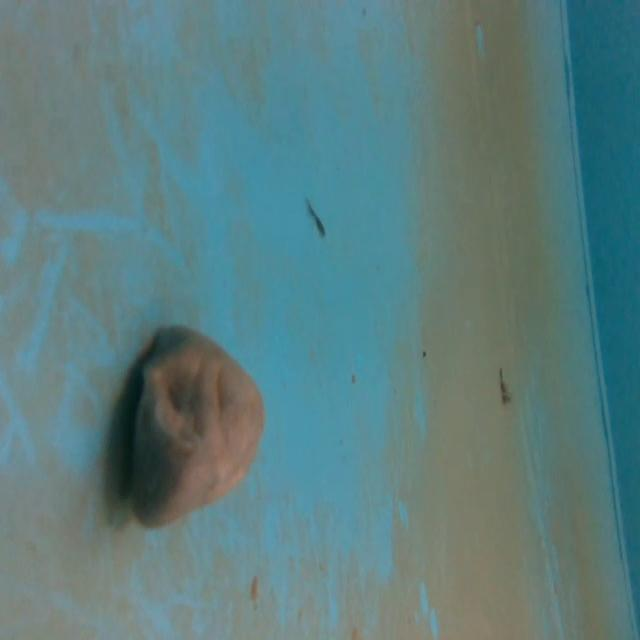rock: (118, 316, 272, 538)
